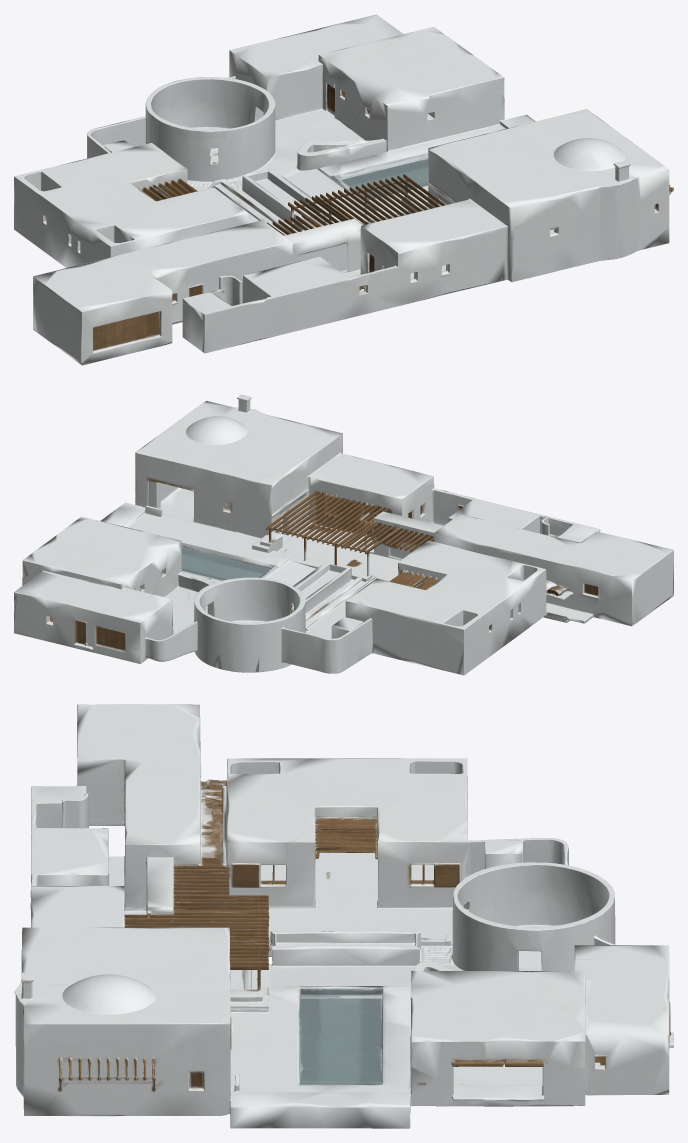
Rendered from villa-M-opt.glb.
3 views of the same model, one above another, from view 1: azimuth 30°, elevation 25°; view 2: azimuth 150°, elevation 25°; view 3: azimuth 270°, elevation 25° (orthographic). The views are drawn at different scales.
Bounding box in the file's own units: 1.89 × 0.2982 × 1.47.
Materials: 1 (1 with a texture image).
